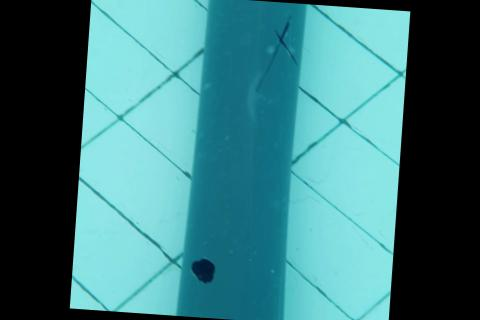kebocoran: (186, 255, 218, 283)
keretakan: (253, 14, 300, 93)
